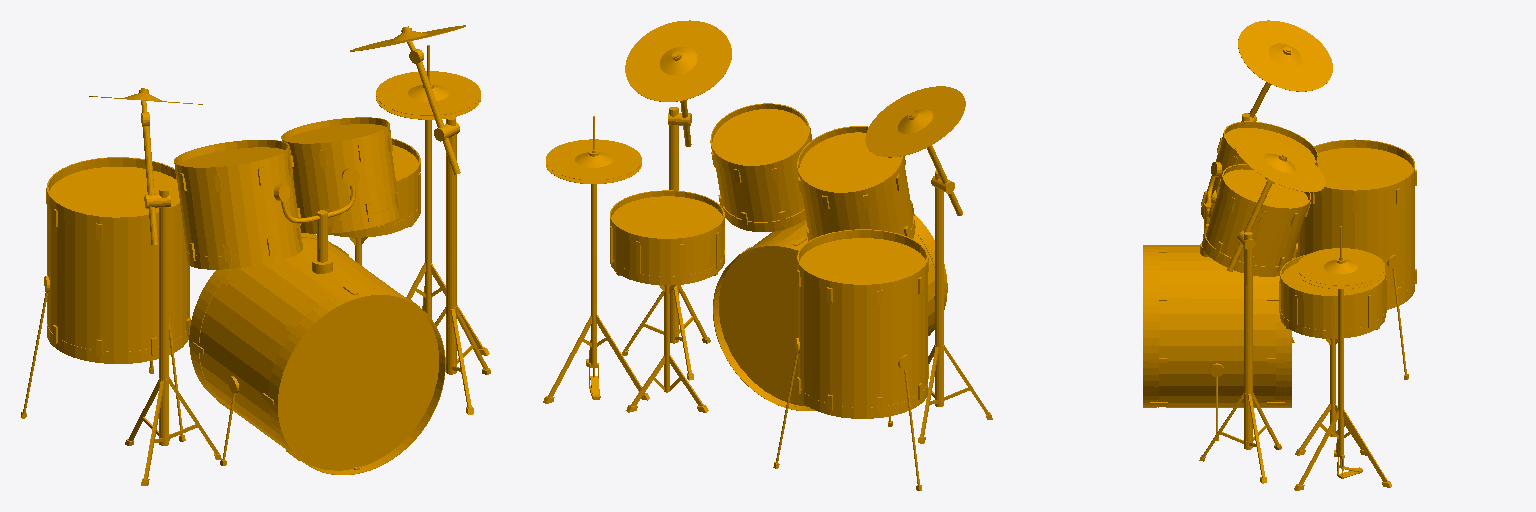
The robot description file, URDF, robot "none":
<robot name="none">
       <link name="none">
           <visual>
               <origin rpy="1.57 0 0" xyz="0 0 0" />
               <geometry>
                   <mesh filename="batterie.obj" />
               </geometry>
           </visual>
          <collision>
              <geometry>
                  <box size="1.000000 0.820671 0.659080" />
              </geometry>
          </collision>

          <inertial>
            <mass value="0.0" />
            <inertia ixx="0.0" ixy="0.0" ixz="0.0" iyy="0.0" iyz="0.0" izz="0.0" />
          </inertial>
      </link>
  </robot>

--- Facts derived from the render (not from the file) ---
The picture shows the robot from 3 angles, left to right: view 1: azimuth 30°, elevation 25°; view 2: azimuth 150°, elevation 25°; view 3: azimuth 270°, elevation 25°; orthographic projection.
Robot: none — 1 links, 0 joints (none); root link none; default pose: every joint at zero.
Links seen in each view (by area): view 1: none; view 2: none; view 3: none.
Boxes of the visible links, box(x1,y1,x2,y2) form: none: box(21, 25, 490, 485); none: box(543, 20, 992, 490); none: box(1143, 20, 1416, 490).
Size in the robot's own frame: 1 by 0.6595 by 0.8209 metres.
1 mesh visuals loaded from 1 distinct referenced files (1 OBJ).